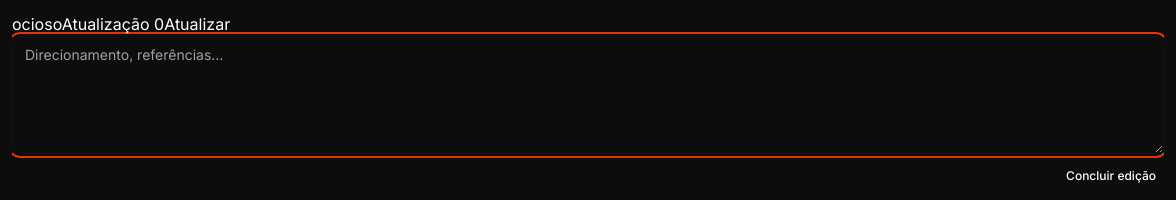
Test: Briefing mantém edição e cursor › erro de salvamento preserva o texto e a edição
The width and height of the screenshot is (1176, 200).
Type "Não perder este texto" into the text box at (588, 95), box [12,36,1164,154]
Wait 800 ms
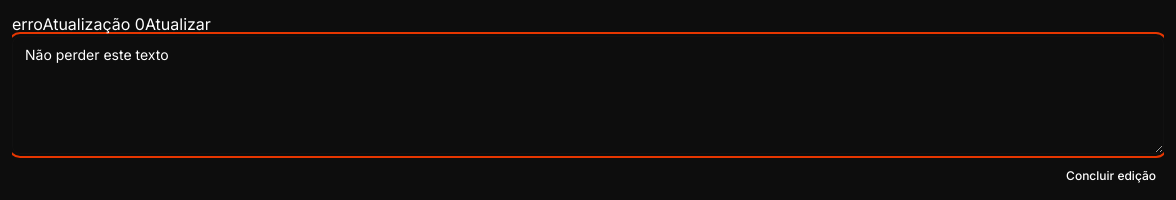
Now the text "erro" is shown, box [12,14,42,34]
